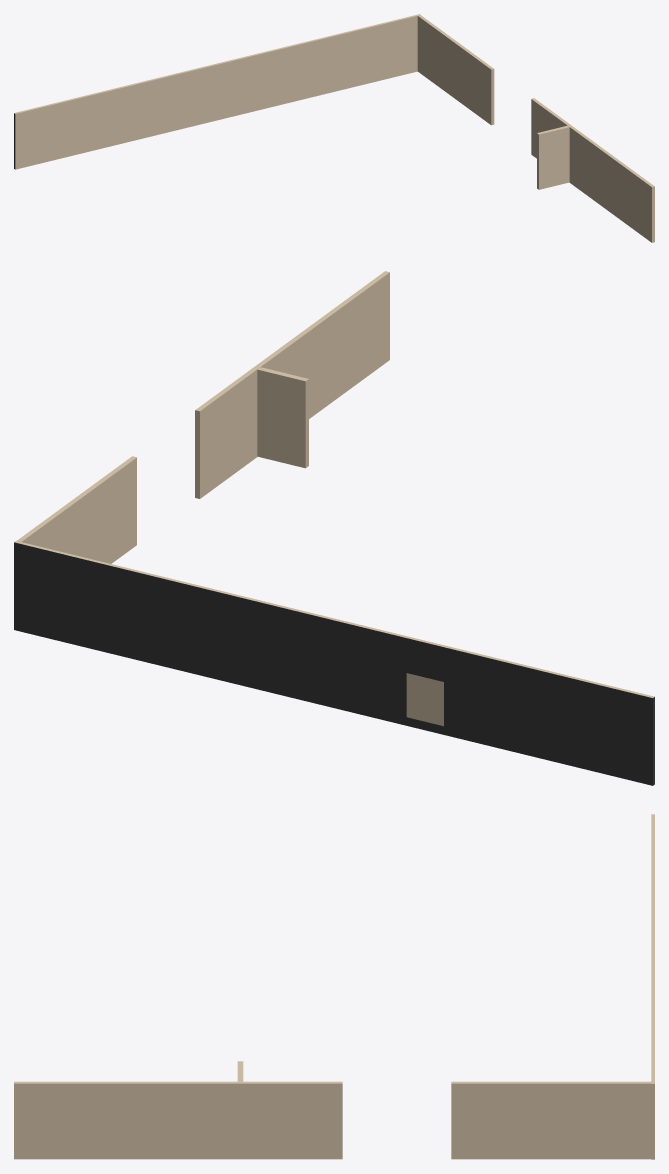
Rendered from Side_Walls_v1.fbx.
The picture shows the model from 3 angles, top to bottom: view 1: azimuth 30°, elevation 25°; view 2: azimuth 150°, elevation 25°; view 3: azimuth 270°, elevation 25°; orthographic projection. The views are drawn at different scales.
Parts seen in each view (by area): view 1: Cube.009, Cube.005; view 2: Cube.009, Cube.005; view 3: Cube.009.
Boxes of the visible parts, x1,y1,x2,y2 form: Cube.009: (14, 14, 654, 242); Cube.005: (537, 125, 569, 189); Cube.009: (14, 271, 654, 785); Cube.005: (257, 367, 308, 468); Cube.009: (14, 814, 654, 1159).
Size of the model in its own units: 2750 by 361 by 2763.
